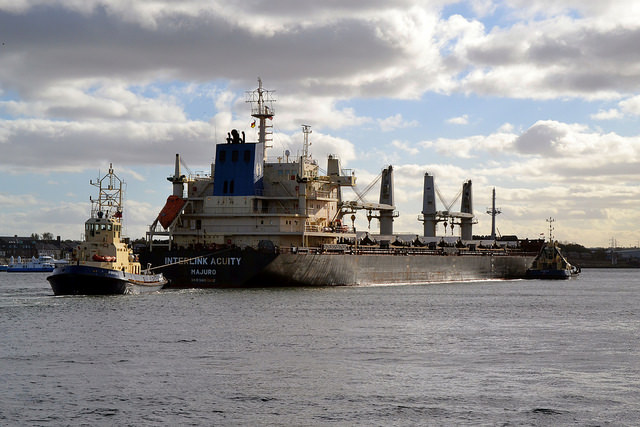bulk carrier: (161, 77, 541, 284)
tug_boat: (48, 163, 163, 295), (534, 218, 581, 280)
